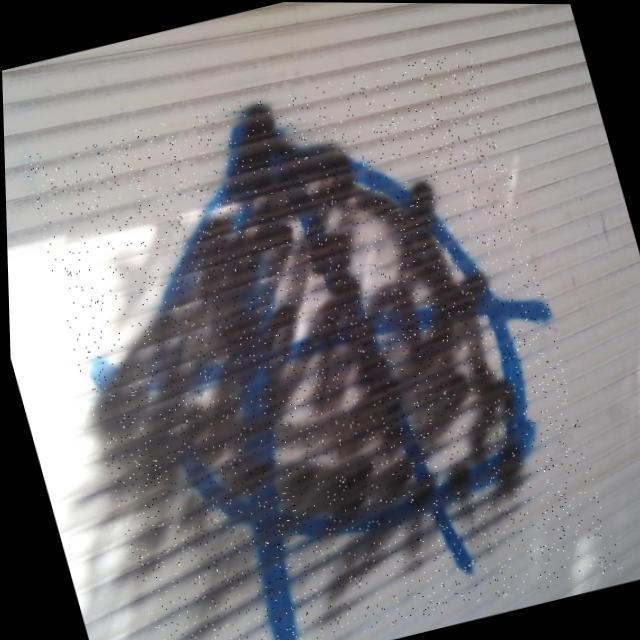-: (16, 42, 620, 640)
